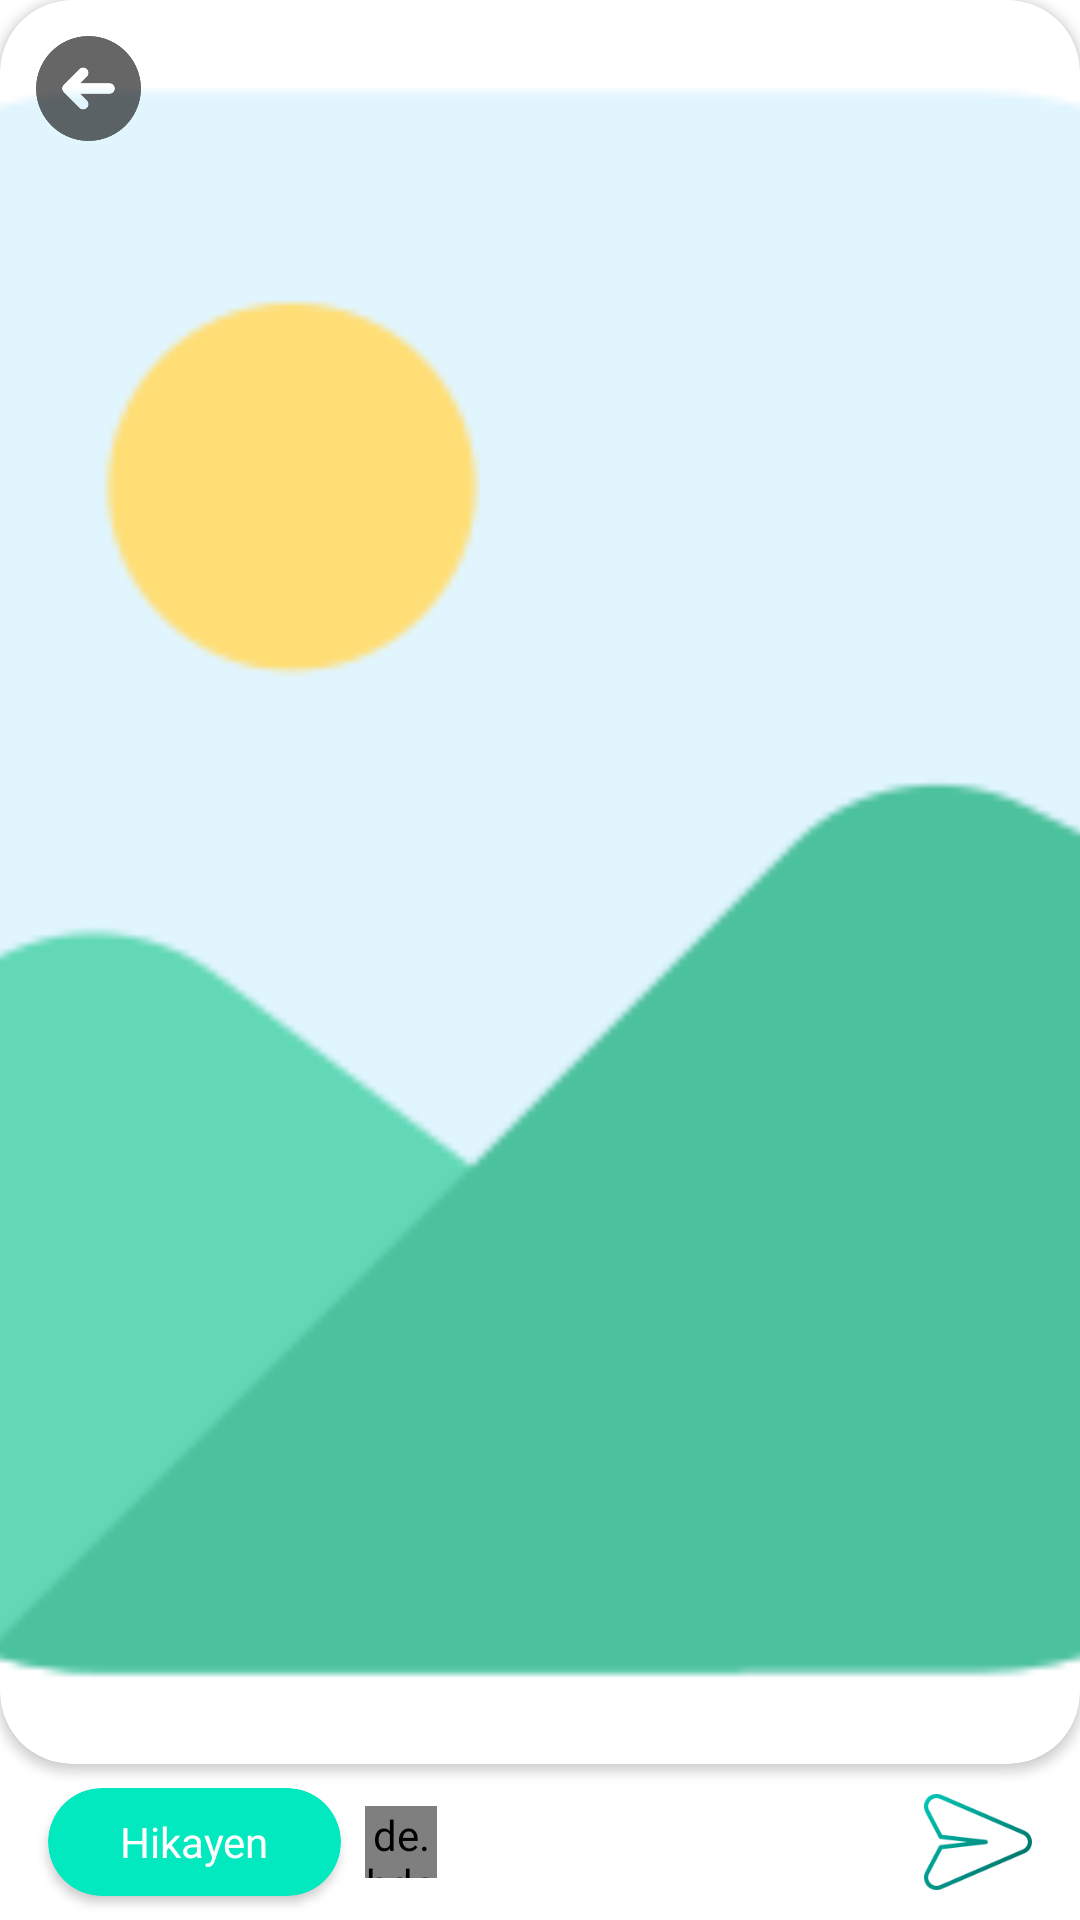

Where to tap for icons on this 1080 x 1920 app screen, as (x,y):
leftarrow: (88,88)
send: (978,1842)
